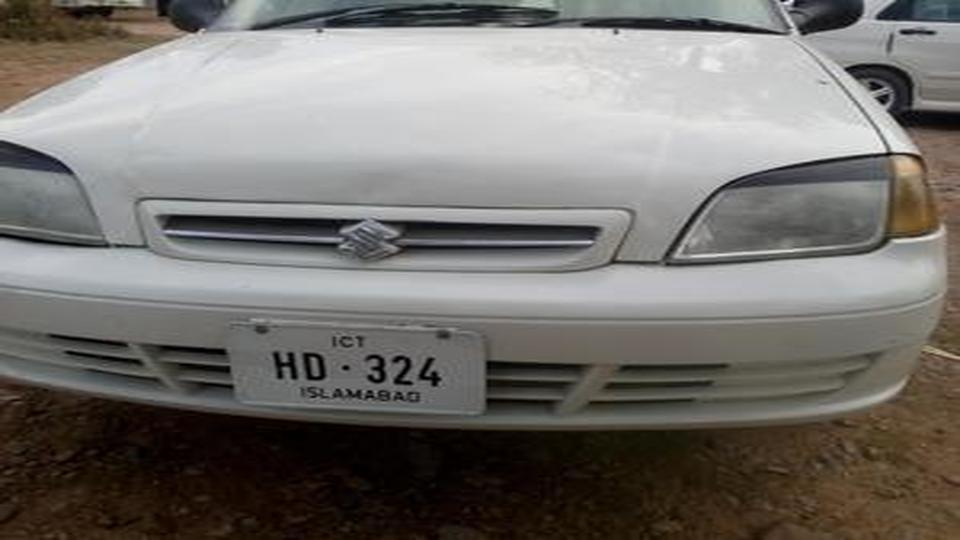NumberPlate: (226, 322, 492, 418)
